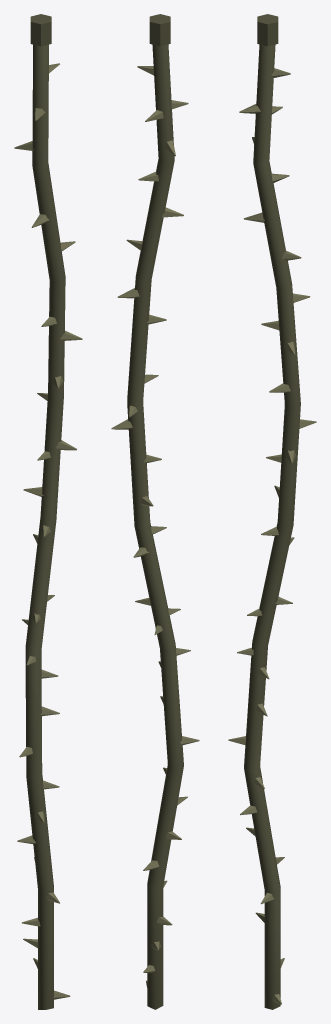
Rendered from CipóA.fbx.
3 renders of one model, left to right at view 1: azimuth 30°, elevation 25°; view 2: azimuth 150°, elevation 25°; view 3: azimuth 330°, elevation 25°, orthographic.
Visible parts, largest first — view 1: CipoEspinhos; view 2: CipoEspinhos; view 3: CipoEspinhos.
Part boxes in pixels (<box>): CipoEspinhos: <box>14,14,82,1009</box>; CipoEspinhos: <box>111,14,199,1009</box>; CipoEspinhos: <box>228,14,316,1009</box>.
Size of the model in its own units: 1 by 14.6 by 0.8722.
